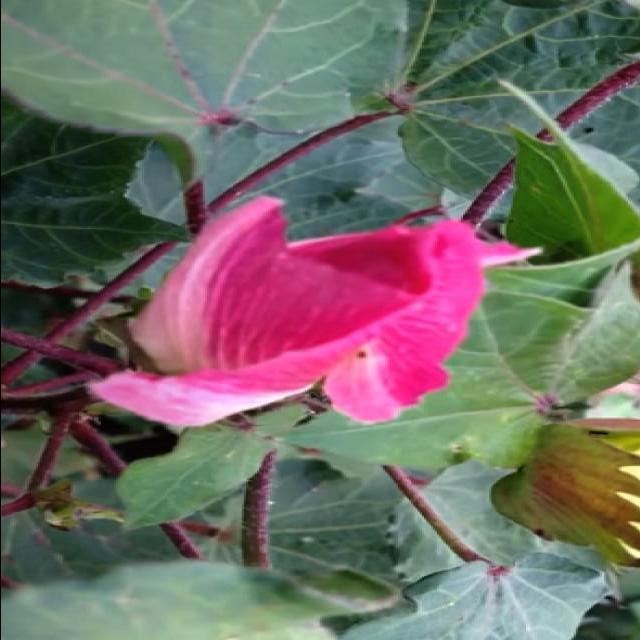Cotton Blossom: (86, 195, 506, 431)
Cotton Bud: (491, 421, 640, 568)
